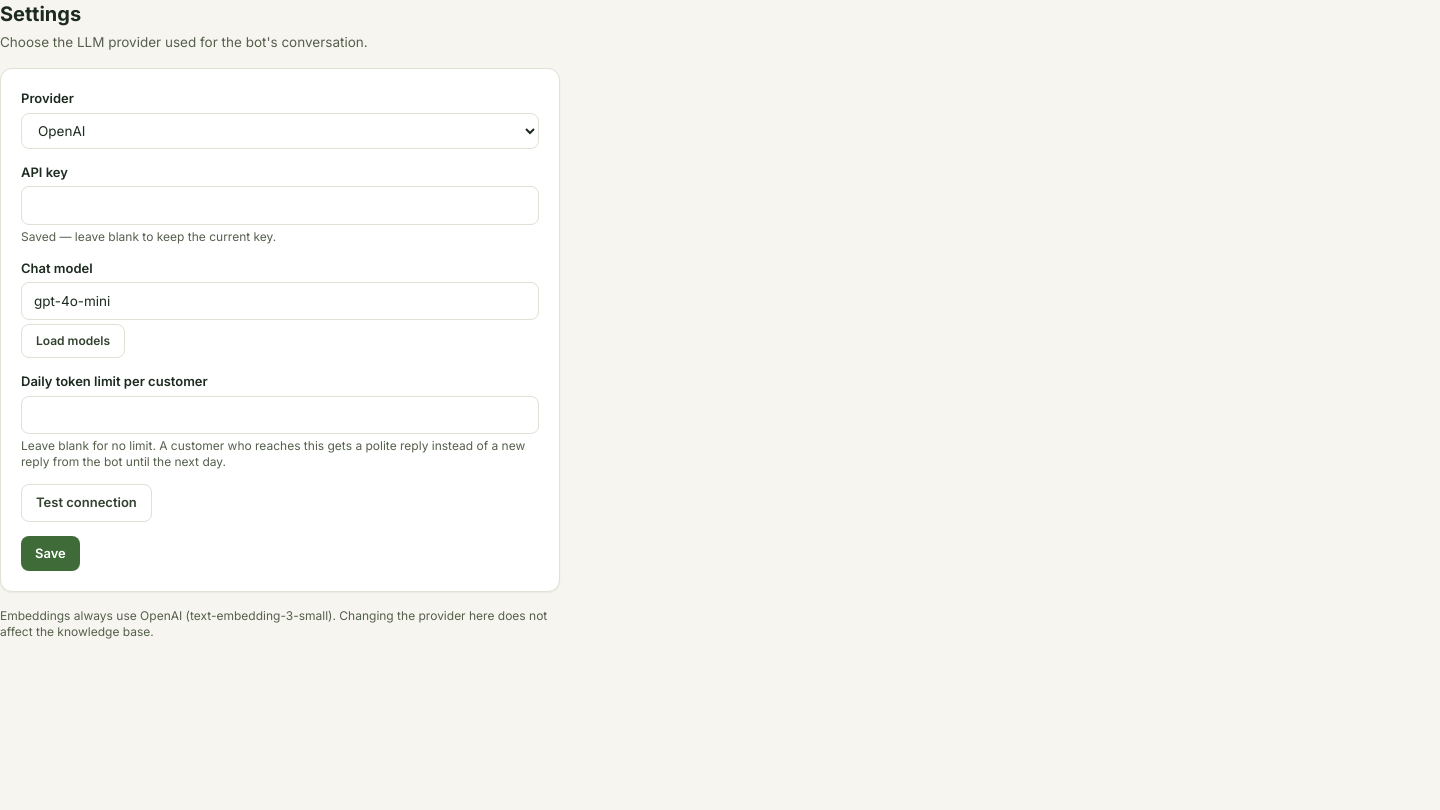
Test: SettingsPage › cancels the confirmation without saving
What coordinates should you click on to do the following:
click the button "Save"
I would click on:
 (50, 553)
Its box is [21,536,80,571].
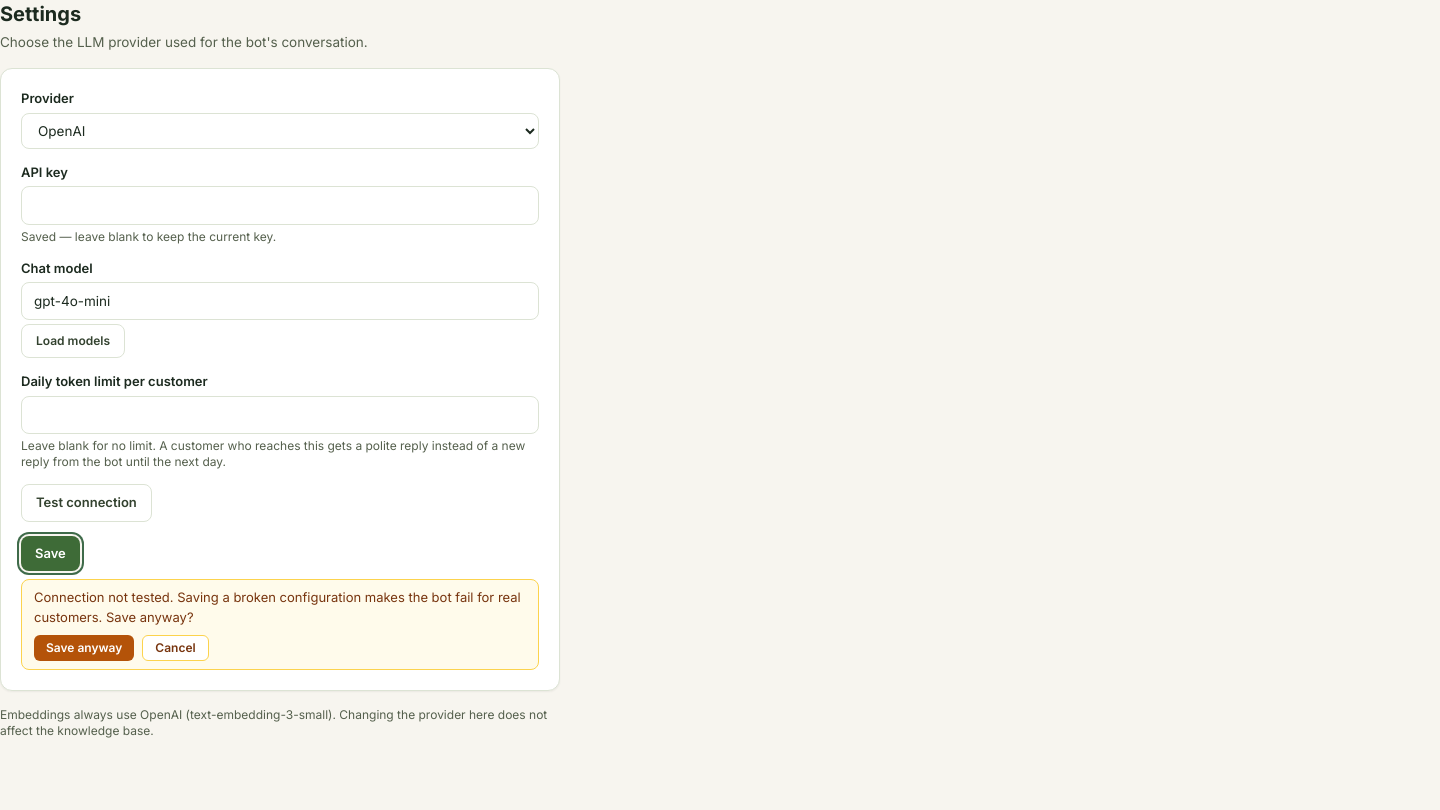
Check: the dialog is shown, box [21,579,539,670]
What coordinates should you click on to do the following:
click the button "Cancel"
I would click on:
 (175, 648)
Its box is [142,635,209,661].
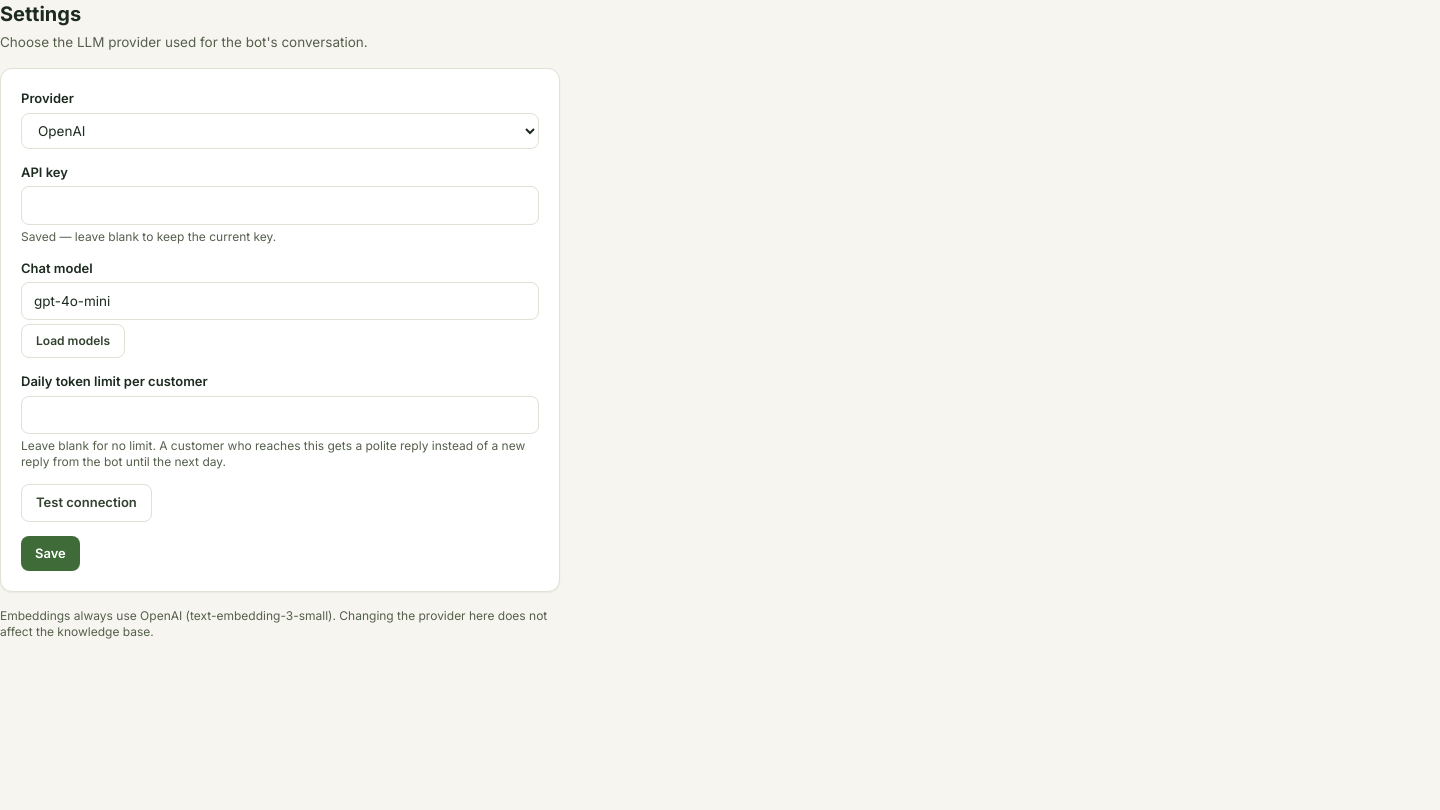
Check: the dialog is gone
